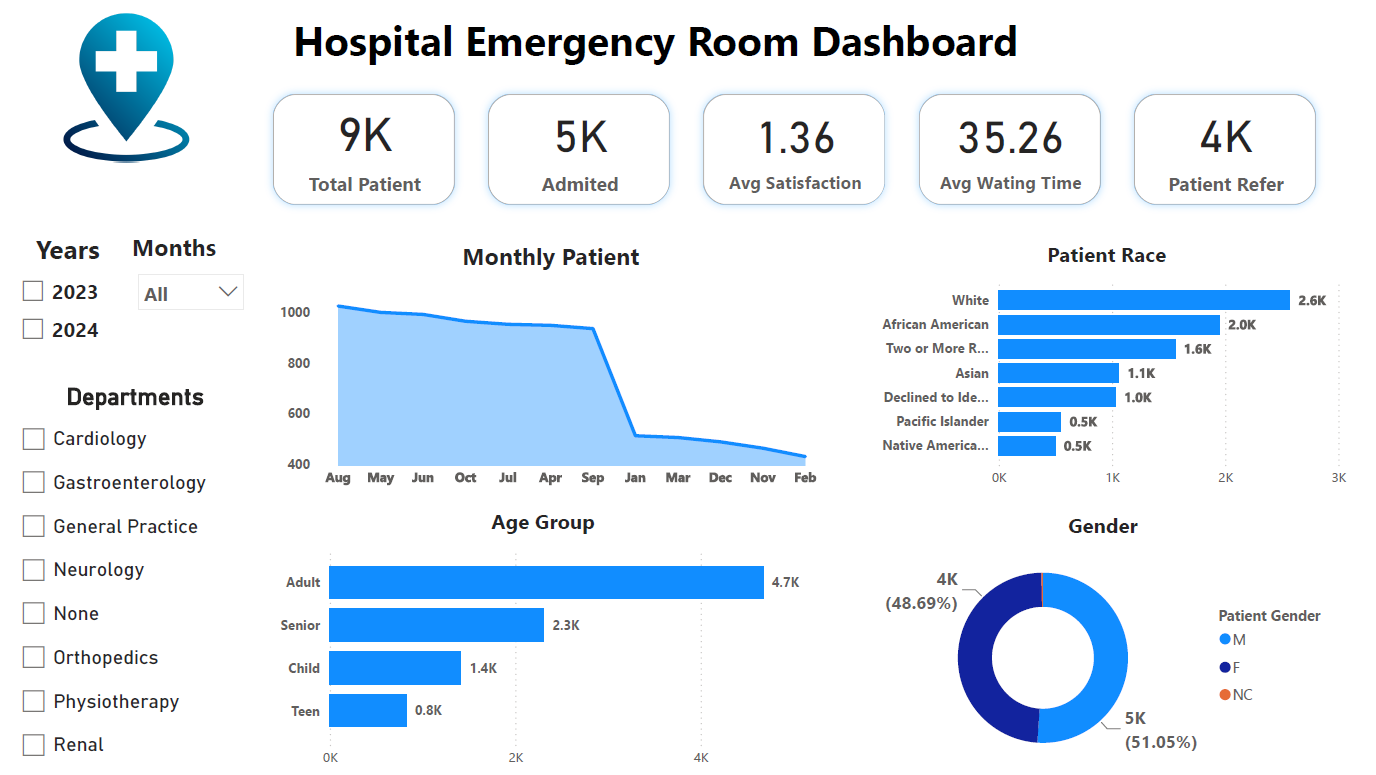

Layout of this report page (visuals, bound fields, positions):
{"tool":"powerbi","page":{"name":"Page 3","canvas":[1280,720],"ordinal":2},"visuals":[{"type":"cardVisual","title":"Total Patient","fields":{"Data":["Hospital ER_Data.Total_patient","Hospital ER_Data.total_admited","Hospital ER_Data.avg_statisfaction_score","Hospital ER_Data.avg_waiting_time","Hospital ER_Data.patient_refer"]},"box":[242.6,79.5,989.2,133.4],"z":0},{"type":"areaChart","title":"Monthly Patient","fields":{"Category":["Hospital ER_Data.Month"],"Y":["Hospital ER_Data.Total_patient"]},"box":[260.3,229.5,506.5,235.1],"z":1000},{"type":"clusteredBarChart","title":"Patient Race","fields":{"Category":["Hospital ER_Data.Patient Race"],"Y":["Hospital ER_Data.Total_patient"]},"box":[797.6,229.5,447.7,235.1],"z":2000},{"type":"clusteredBarChart","title":"Age Group","fields":{"Y":["Hospital ER_Data.Total_patient"],"Category":["Hospital ER_Data.Age Group"]},"box":[260.1,474,492.4,246.2],"z":3000},{"type":"donutChart","title":"Gender","fields":{"Category":["Hospital ER_Data.Patient Gender"],"Y":["Hospital ER_Data.Total_patient"]},"box":[797.6,477.1,440.8,243.5],"z":4000},{"type":"slicer","title":"Departments","fields":{"Values":["Hospital ER_Data.Department Referral"]},"box":[16.6,360,232,360],"z":5000},{"type":"textbox","box":[260.1,16.2,698.1,63.3],"z":6000},{"type":"slicer","title":"Years","fields":{"Values":["Hospital ER_Data.YEAR"]},"box":[16.6,221.4,108.4,113],"z":7000},{"type":"slicer","title":" Months","fields":{"Values":["Hospital ER_Data.Month"]},"box":[125,221.4,117.5,113],"z":8000},{"type":"image","box":[36.1,16.6,177.7,146.1],"z":9000}]}

Visuals, with their boxes in screenshot pixels (x1, y1, x2, y2), scaled from the page's 1280x720 canvas onto the 1376x775 screenshot:
"Total Patient" cardVisual: l=261, t=86, r=1324, b=229
"Monthly Patient" areaChart: l=280, t=247, r=824, b=500
"Patient Race" clusteredBarChart: l=857, t=247, r=1339, b=500
"Age Group" clusteredBarChart: l=280, t=510, r=809, b=774
"Gender" donutChart: l=857, t=514, r=1331, b=774
"Departments" slicer: l=18, t=388, r=267, b=774
textbox: l=280, t=17, r=1030, b=86
"Years" slicer: l=18, t=238, r=134, b=360
" Months" slicer: l=134, t=238, r=261, b=360
image: l=39, t=18, r=230, b=175
